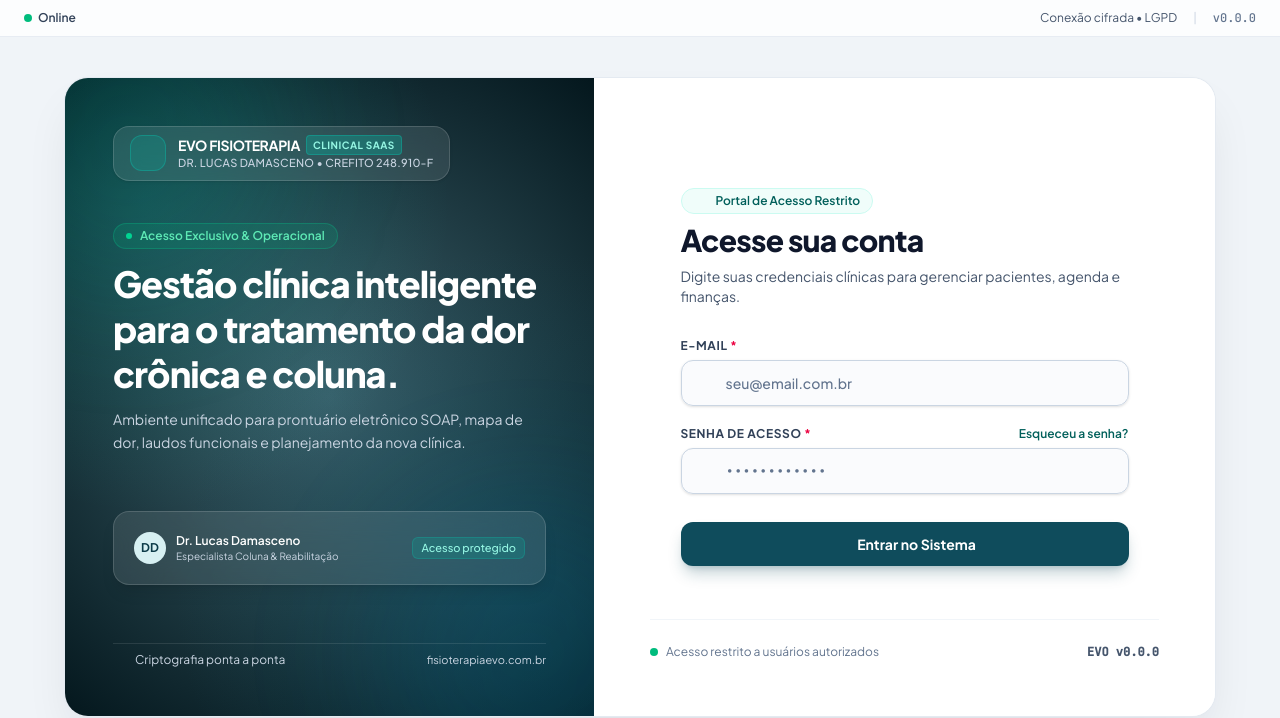
Test: LoginTela › CREDENCIAIS_INVALIDAS mostra o banner, limpa a senha, mantém o e-mail e foca a senha
This screenshot has width=1280, height=718.
Type "lucas@clinica.com" into the field labelled "E-mail *".
click(904, 382); type("lucas@clinica.com")  # box [680,360,1128,406]
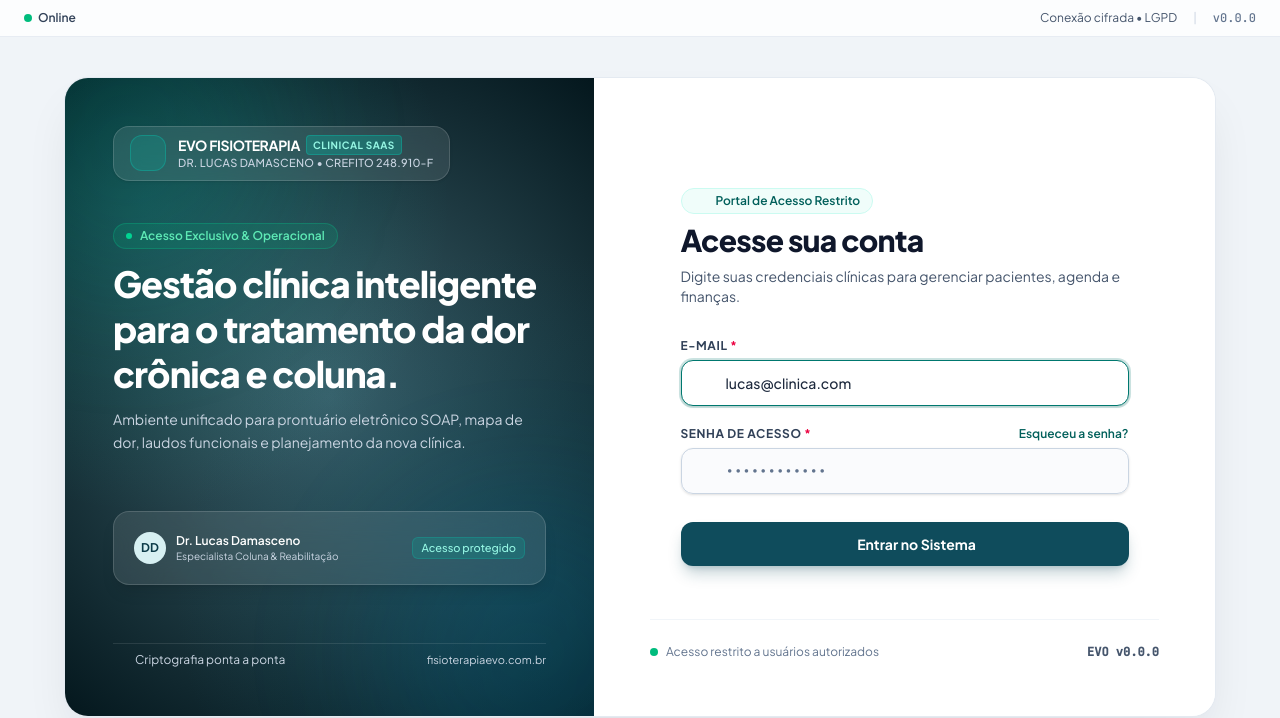
Type "senha-de-teste-forte-123" into the password field labelled "Senha de Acesso *".
click(904, 470); type("senha-de-teste-forte-123")  # box [680,448,1128,494]
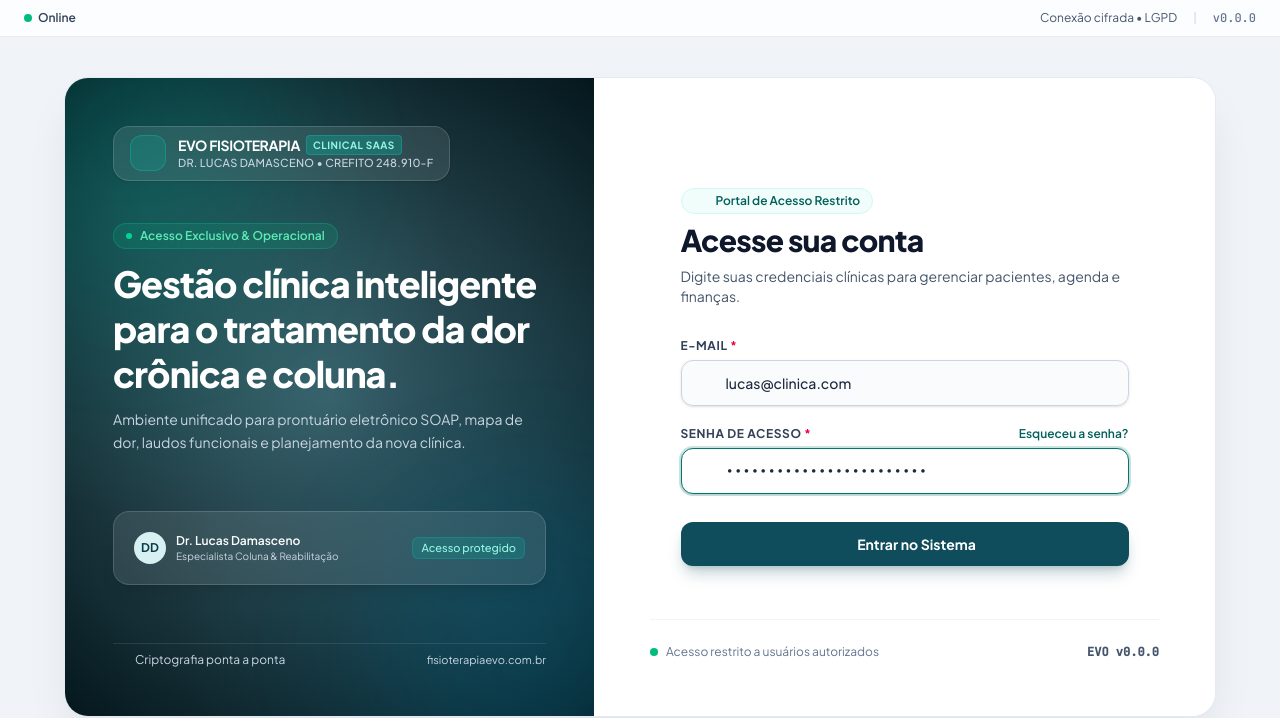
Click the button "Entrar no Sistema".
click(904, 544)  # box [680,522,1128,566]
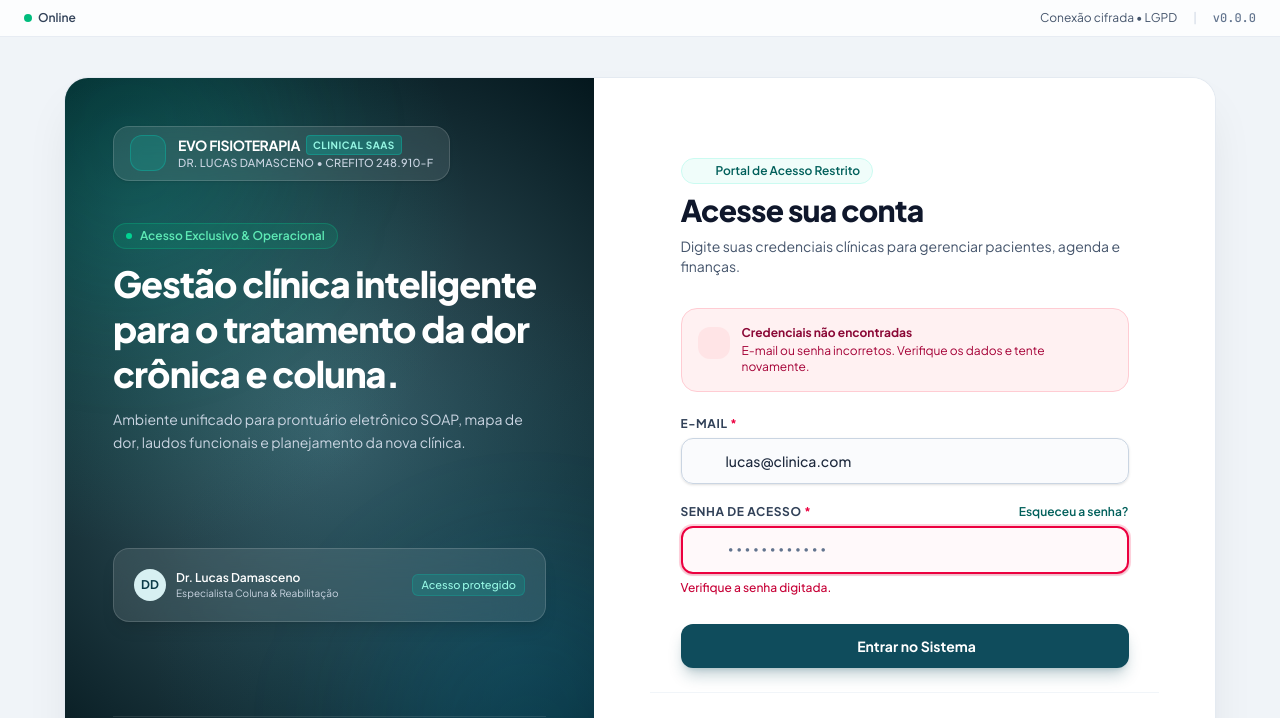
Check: the message that starts with "Credenciais não encontradas" is shown, box [742,325,912,340]
Check: the password field labelled "Senha de Acesso *" is empty, box [680,526,1128,574]
Check: the text "Verifique a senha digitada." is shown, box [680,580,831,595]
